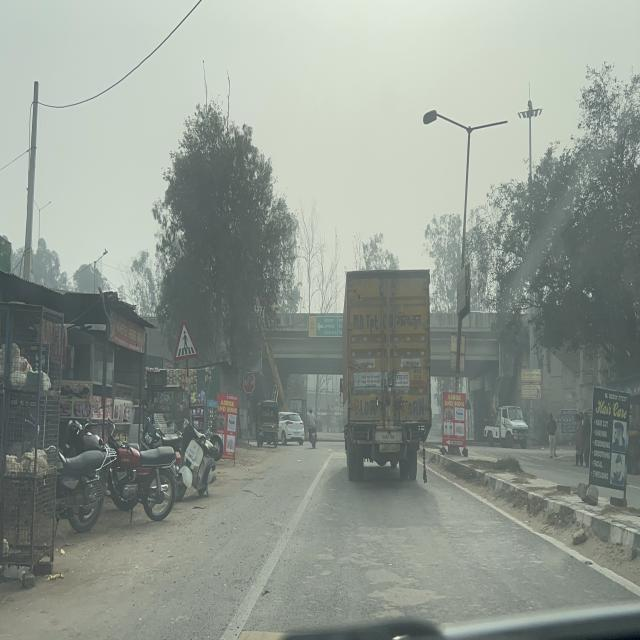GENERAL: (309, 315, 343, 338)
PEDESTRIAN_CROSSING: (174, 320, 198, 361)
STOP: (243, 371, 256, 395)
